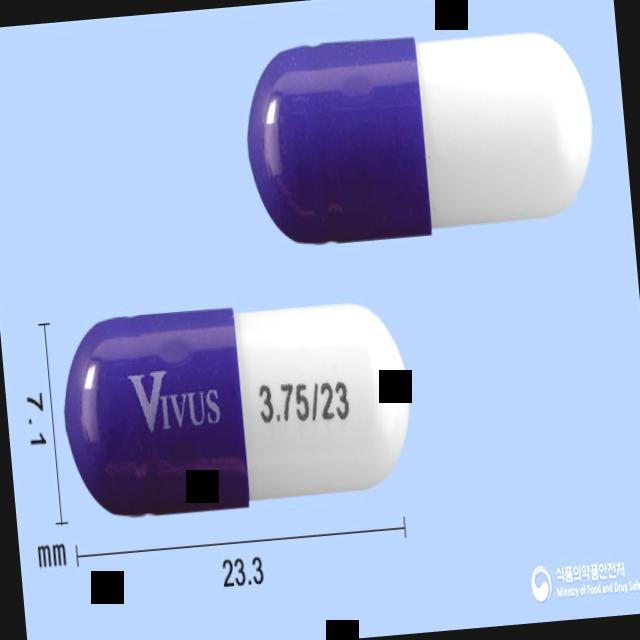Qsymia Cap-3-75mg: (55, 288, 418, 525)
